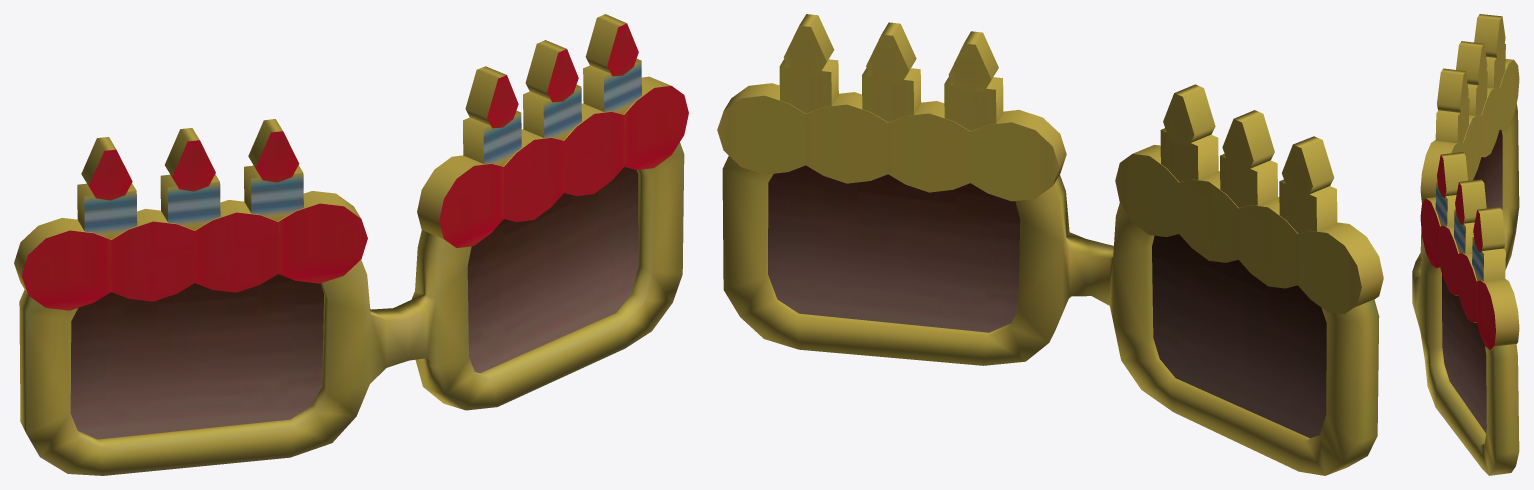
File: party-glasses.glb
3 renders of one model, left to right at view 1: azimuth 30°, elevation 25°; view 2: azimuth 150°, elevation 25°; view 3: azimuth 270°, elevation 25°, orthographic. The views are drawn at different scales.
Size of the model in its own units: 5.81 by 2.72 by 1.03.
2 materials, 2 textured.
